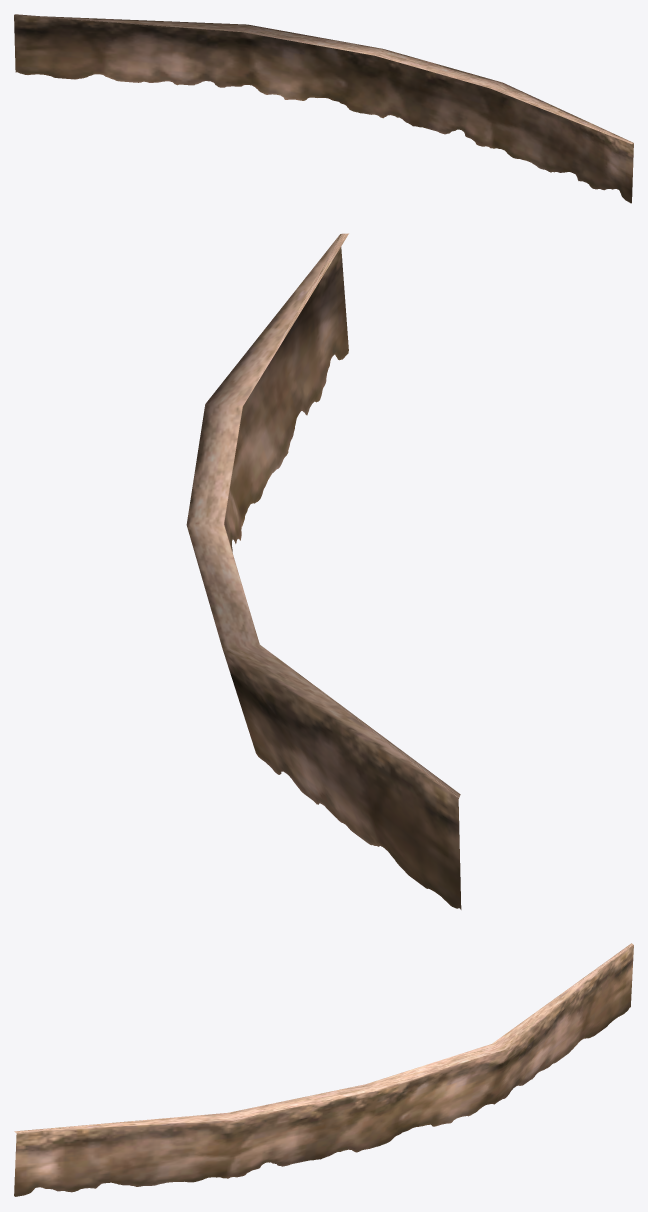
File: EKH_GROTTO_PS_GR_LINE23.fbx
The picture shows the model from 3 angles, top to bottom: view 1: azimuth 30°, elevation 25°; view 2: azimuth 150°, elevation 25°; view 3: azimuth 270°, elevation 25°; orthographic projection. The views are drawn at different scales.
Visible parts, largest first — view 1: EKH_GROTTO_PS_GR_LINE23; view 2: EKH_GROTTO_PS_GR_LINE23; view 3: EKH_GROTTO_PS_GR_LINE23.
Boxes of the visible parts, bbox=[...] form: EKH_GROTTO_PS_GR_LINE23: bbox=[14, 14, 633, 203]; EKH_GROTTO_PS_GR_LINE23: bbox=[186, 233, 461, 909]; EKH_GROTTO_PS_GR_LINE23: bbox=[14, 943, 633, 1196].
Bounding box in the file's own units: 25013 × 5062 × 35926.
1 material, 1 textured.
